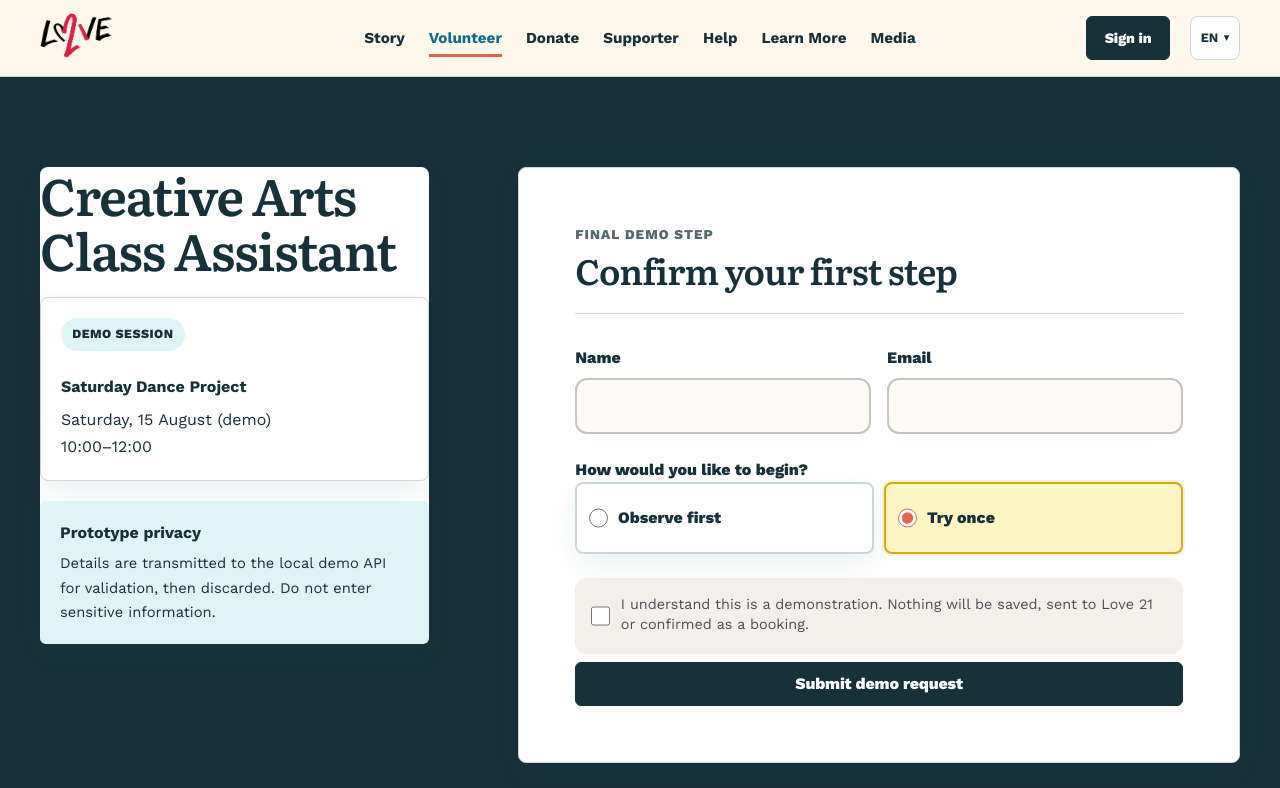
closed-loop forms › submits a demo session request with pending confirmation semantics
Step 1. Type "Jamie Chan" into the field labelled "Name" → [723, 406], box [575,378,871,434]
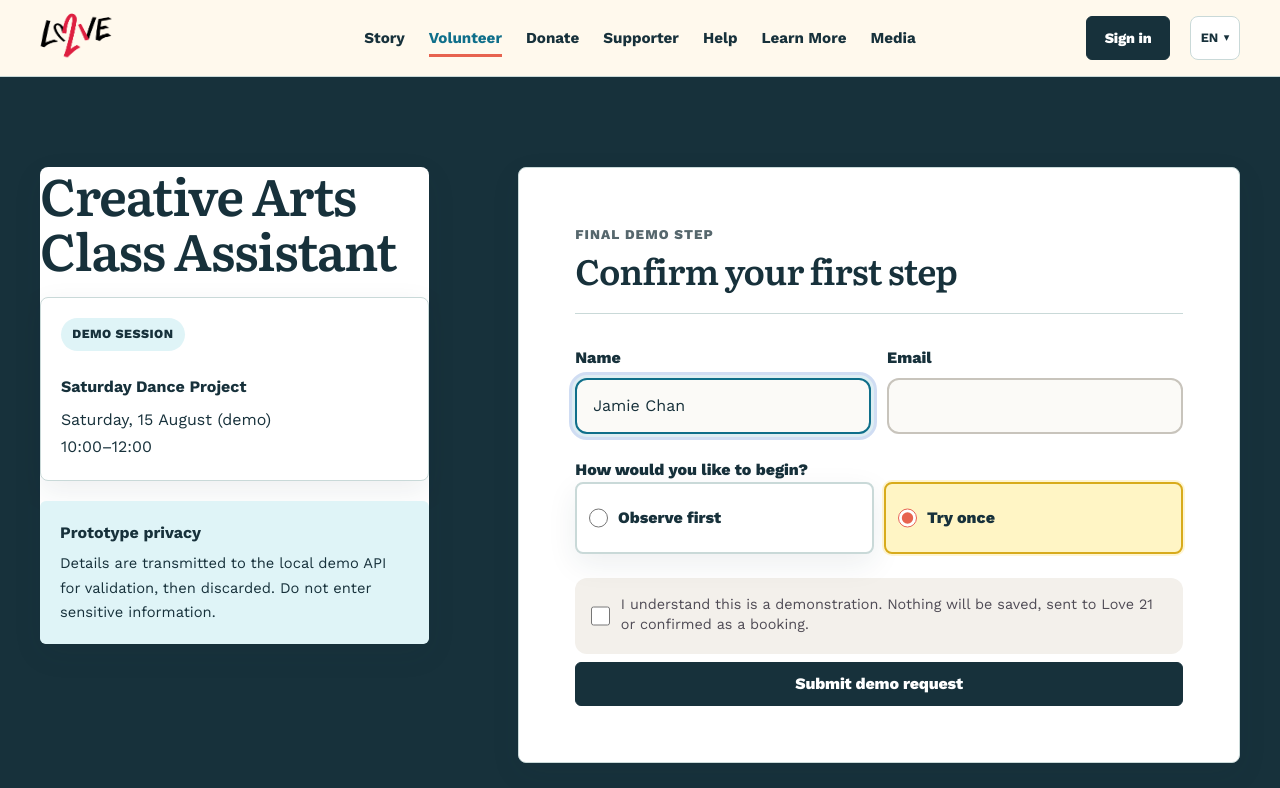
Step 2. Type "jamie@example.com" into the field labelled "Email" → [1035, 406], box [887,378,1183,434]
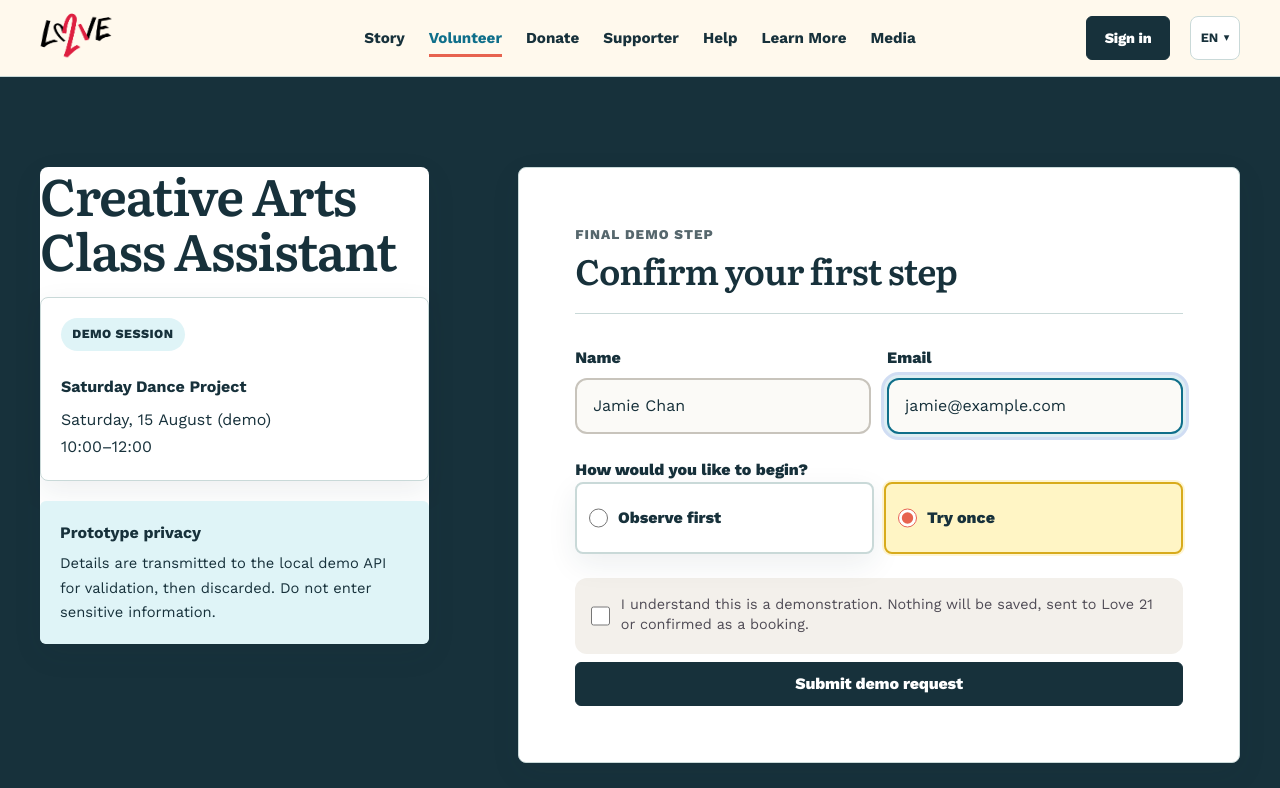
Step 3. Click the checkbox labelled "I understand this is a demonstration" → [600, 616], box [591,594,610,638]
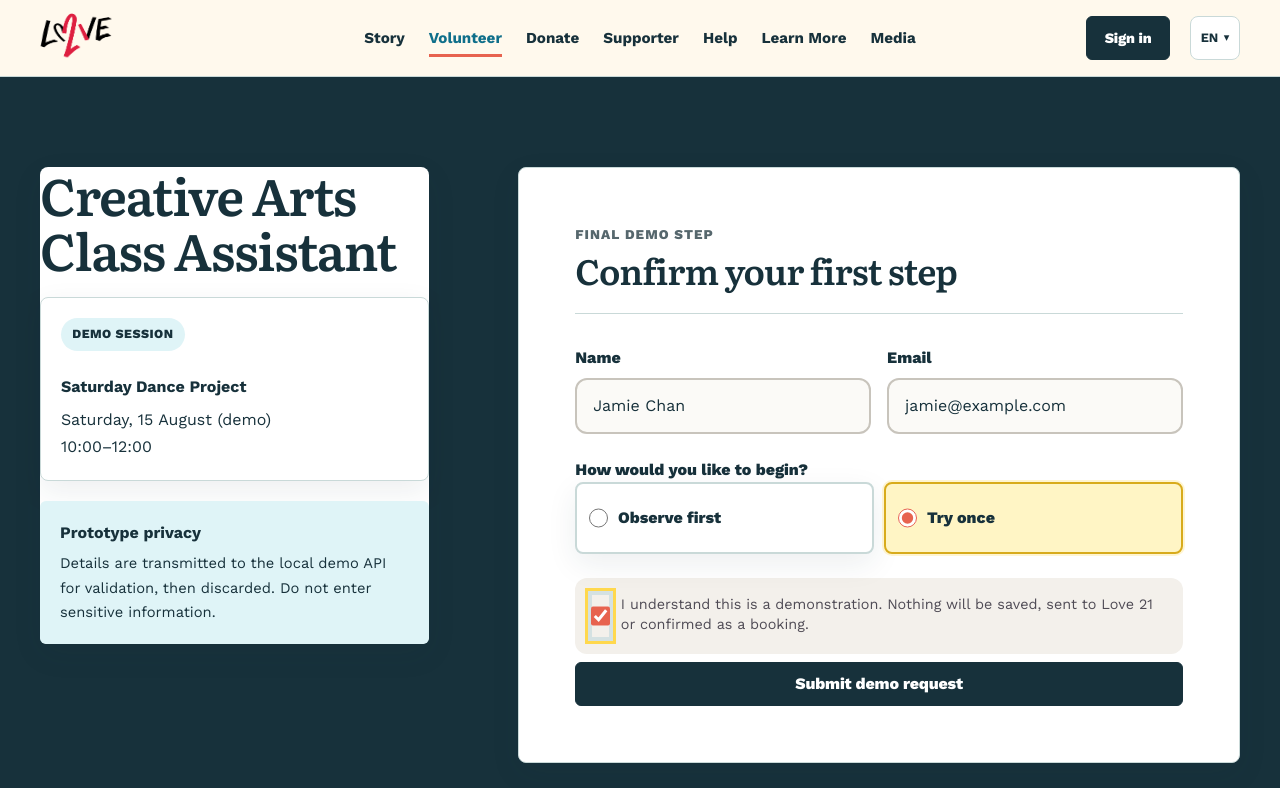
Step 4. Click the button "Submit demo request" → [879, 684], box [575,662,1183,706]
(page scrolled)
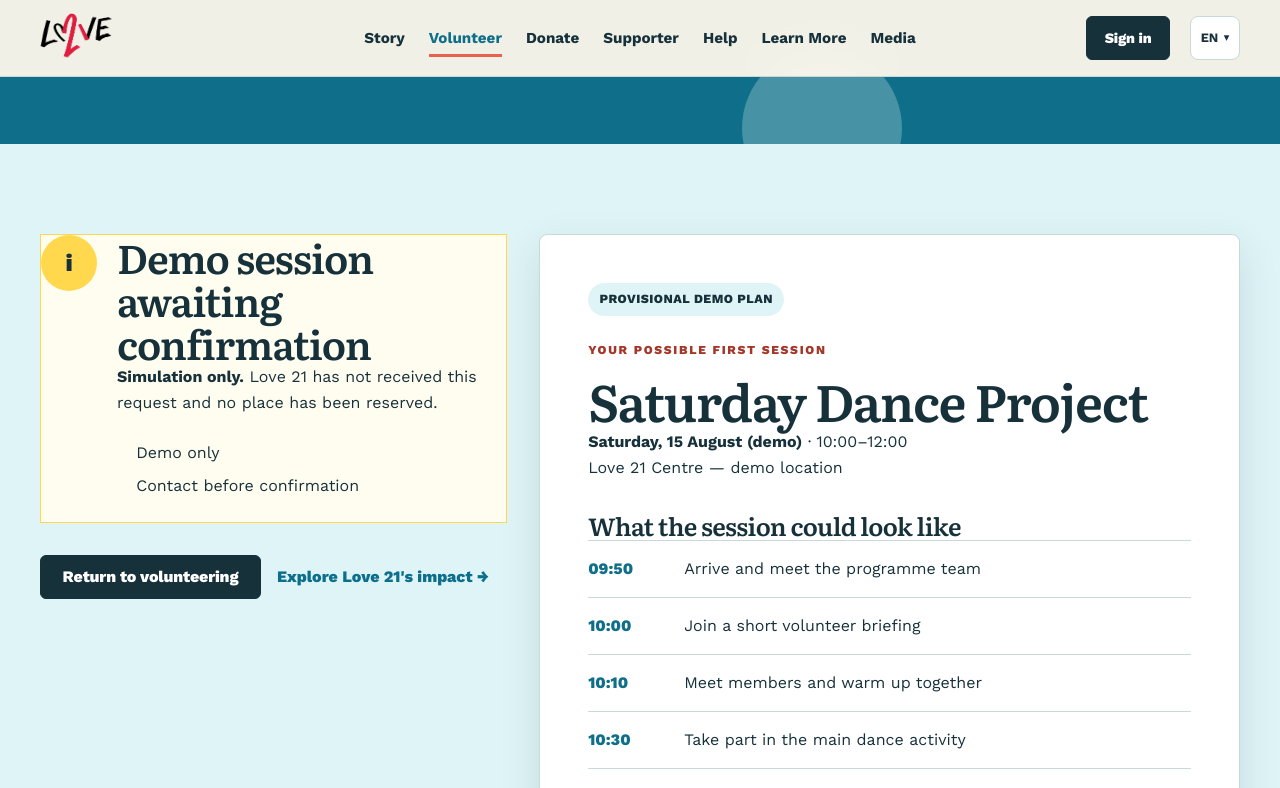
Expected: the text "no place has been reserved" is shown, [117,367,477,412]
Expected: the heading "Saturday Dance Project" is shown, [588,373,1191,429]
